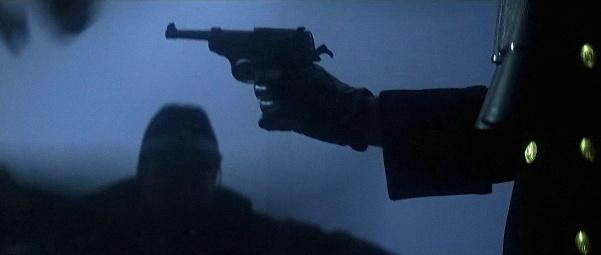Gun: (165, 20, 325, 67)
